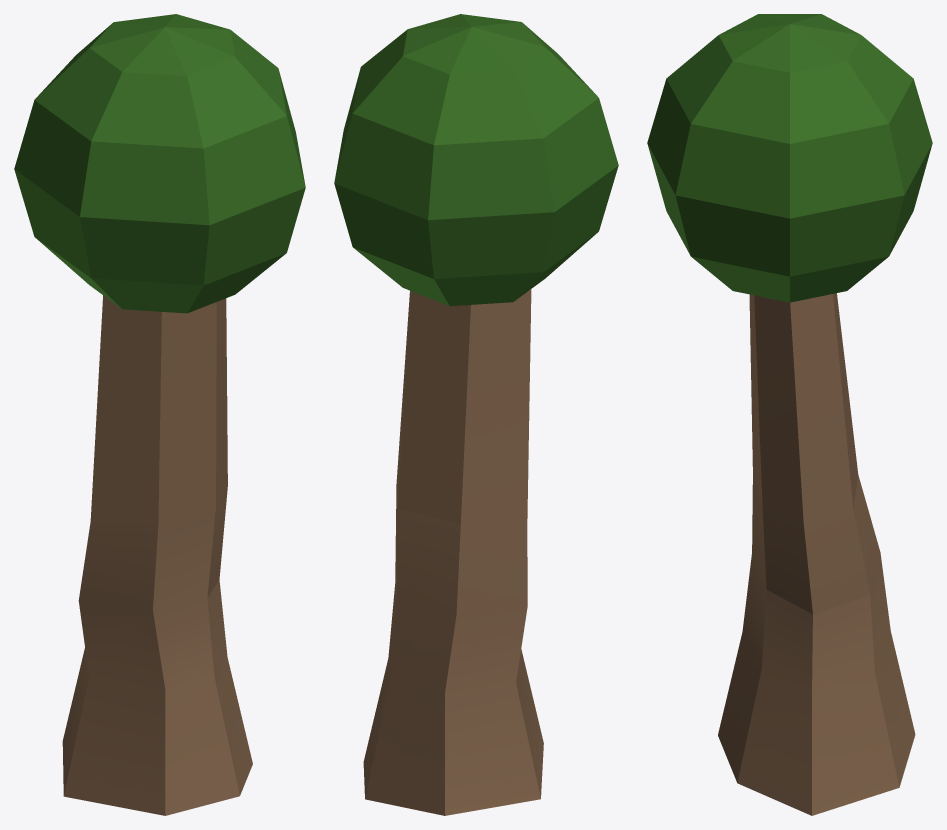
Rendered from Arbol_3.fbx.
3 renders of one model, left to right at view 1: azimuth 30°, elevation 25°; view 2: azimuth 150°, elevation 25°; view 3: azimuth 270°, elevation 25°, orthographic. The views are drawn at different scales.
Parts seen in each view (by area): view 1: pCylinder2, pSphere4; view 2: pCylinder2, pSphere4; view 3: pCylinder2, pSphere4.
Boxes of the visible parts, x1=… form: pCylinder2: x1=62, y1=295, x2=252, y2=815; pSphere4: x1=14, y1=14, x2=305, y2=313; pCylinder2: x1=363, y1=289, x2=543, y2=815; pSphere4: x1=334, y1=14, x2=618, y2=306; pCylinder2: x1=718, y1=293, x2=915, y2=815; pSphere4: x1=647, y1=14, x2=932, y2=302.
Bounding box in the file's own units: 4.61 × 13.61 × 4.73.
